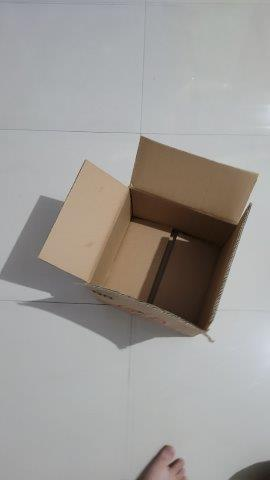kardus: (38, 135, 259, 334)
